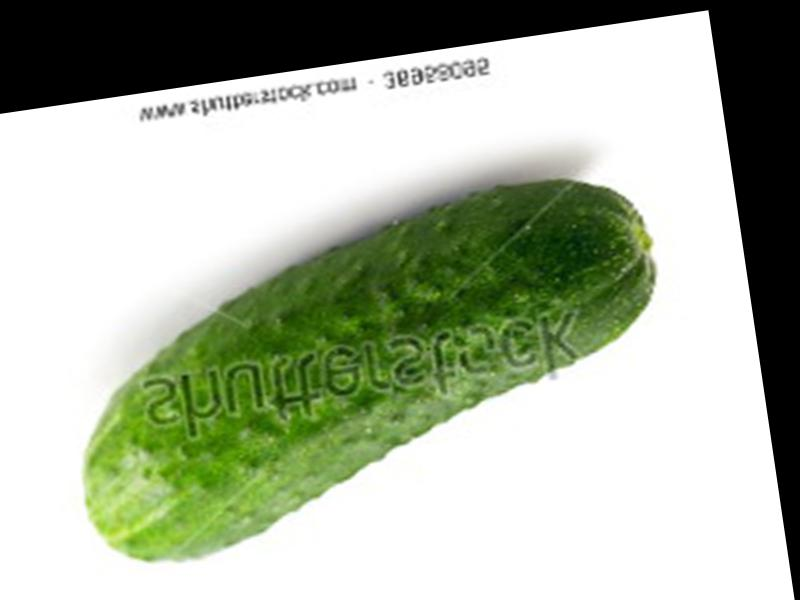Cucumber: (49, 164, 686, 574)
